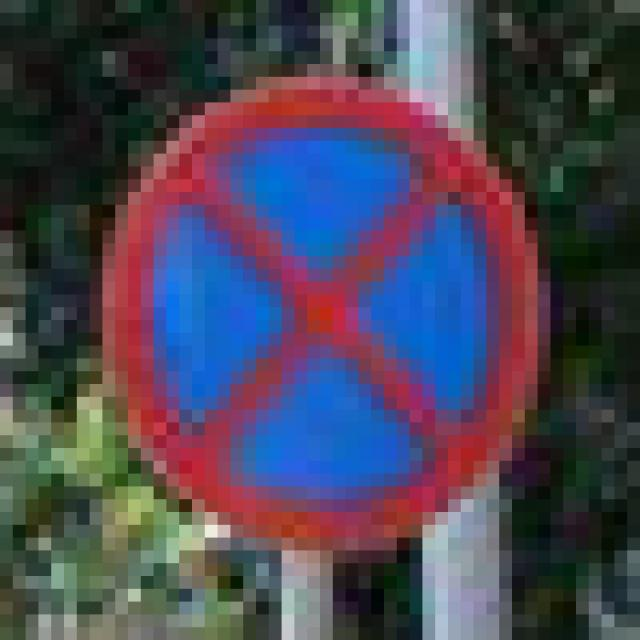NO_STOPPING_OR_STANDING: (102, 64, 525, 525)
